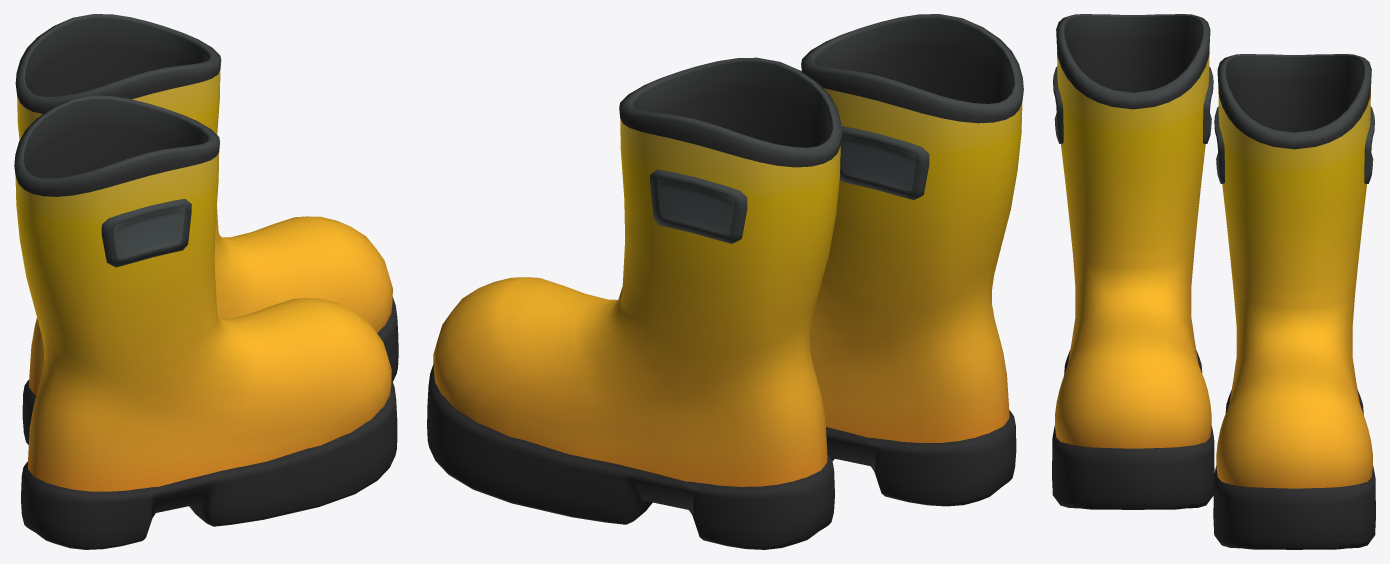
The model's file is boots.fbx.
The picture shows the model from 3 angles, left to right: view 1: azimuth 30°, elevation 25°; view 2: azimuth 150°, elevation 25°; view 3: azimuth 270°, elevation 25°; orthographic projection. The views are drawn at different scales.
Parts seen in each view (by area): view 1: boot; view 2: boot; view 3: boot.
Part boxes in pixels (x1,y1,x2,y2): boot: (14,14,398,549); boot: (427,14,1023,549); boot: (1052,14,1375,549).
Size of the model in its own units: 1.54 by 1.3 by 0.9962.
